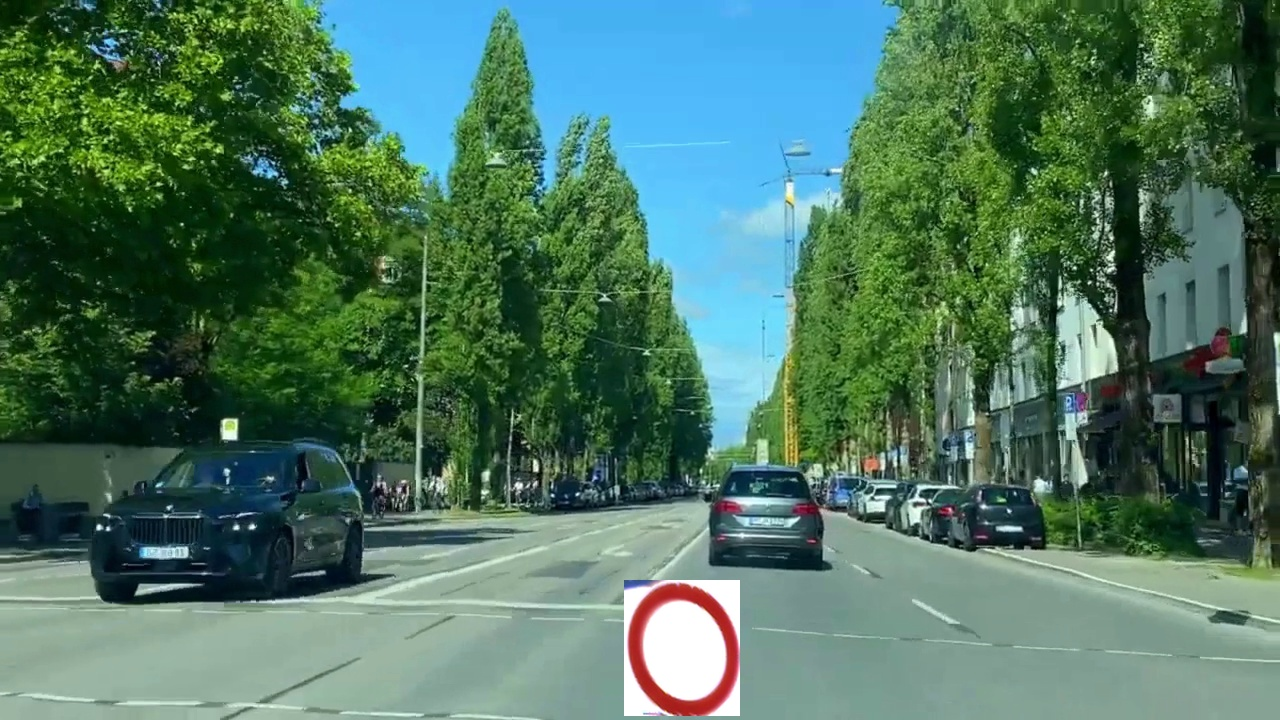No vehicles: (624, 580, 740, 716)
